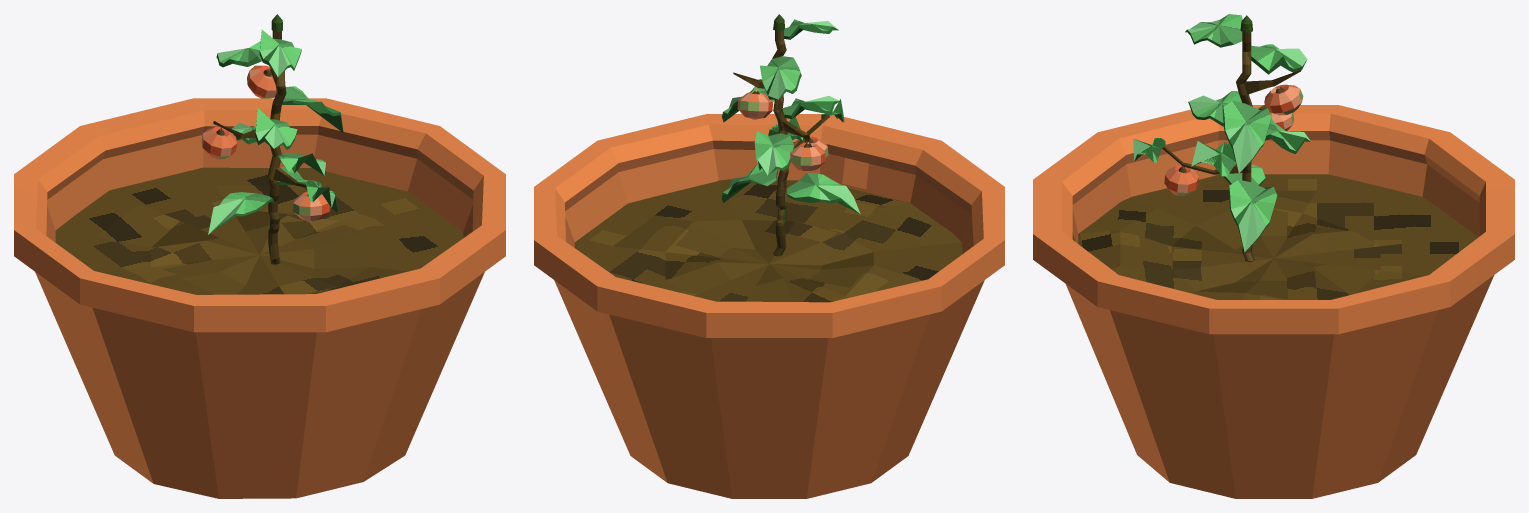
File: plantpot_fruitling_tomato_3.gltf
The picture shows the model from 3 angles, left to right: view 1: azimuth 30°, elevation 25°; view 2: azimuth 150°, elevation 25°; view 3: azimuth 270°, elevation 25°; orthographic projection. The views are drawn at different scales.
Parts seen in each view (by area): view 1: pot, soil, Left Leaf (×6), Tomato (×3), Stem_selection; view 2: pot, soil, Left Leaf (×6), Stem_selection, Tomato (×2); view 3: pot, soil, Left Leaf (×8), Stem_selection, Tomato (×2).
Boxes of the visible parts, bbox=[...] form: pot: bbox=[14, 98, 505, 498]; soil: bbox=[55, 167, 463, 294]; Left Leaf (×6): bbox=[208, 30, 343, 234]; Tomato (×3): bbox=[201, 65, 330, 220]; Stem_selection: bbox=[213, 14, 306, 264]; pot: bbox=[534, 114, 1004, 498]; soil: bbox=[574, 179, 962, 302]; Left Leaf (×6): bbox=[721, 19, 860, 214]; Stem_selection: bbox=[733, 14, 829, 256]; Tomato (×2): bbox=[737, 88, 825, 170]; pot: bbox=[1033, 105, 1514, 498]; soil: bbox=[1072, 174, 1476, 299]; Left Leaf (×8): bbox=[1133, 14, 1310, 251]; Stem_selection: bbox=[1162, 15, 1300, 262]; Tomato (×2): bbox=[1164, 84, 1303, 196].
Bounding box in the file's own units: 2.12 × 2.06 × 2.12.
Materials: 5 (5 with a texture image).
